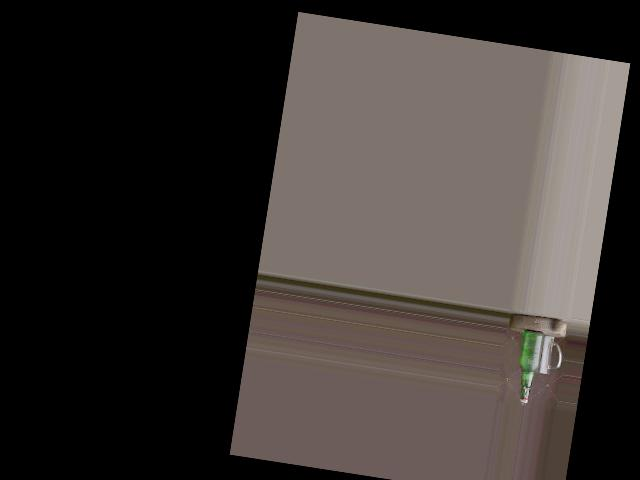beer: (513, 329, 544, 404)
